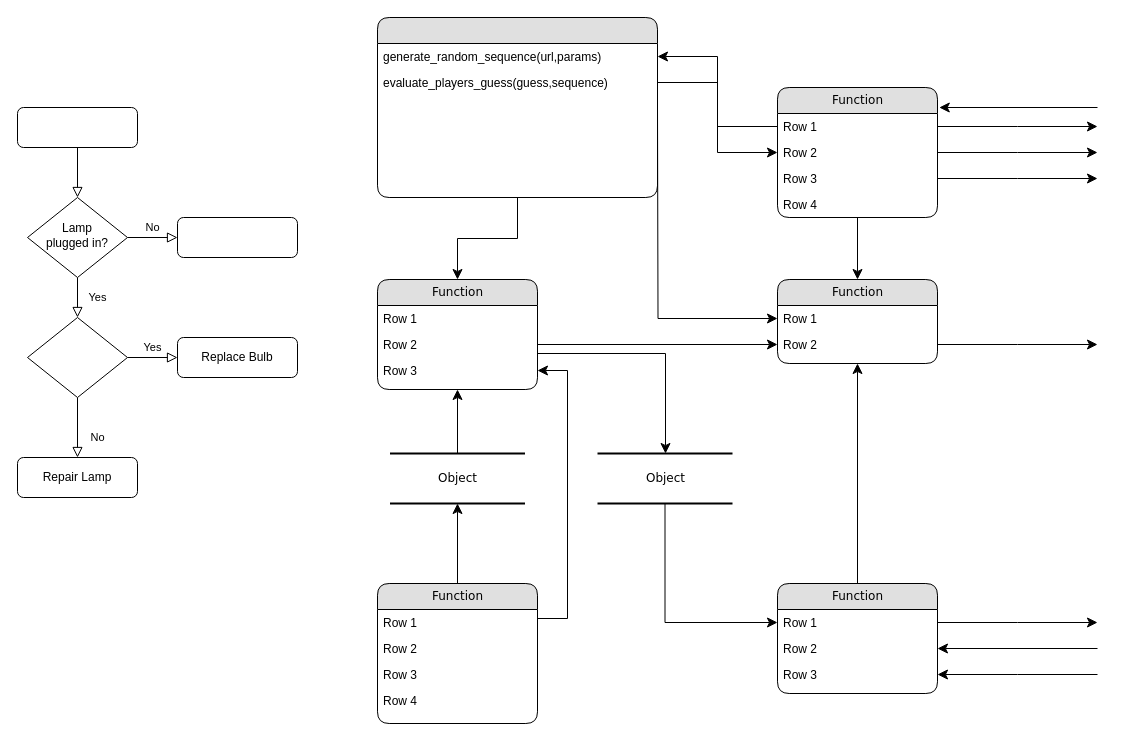
Some shapes in this 1125 by 741 pixel diagram are drawn without their labels. Here are the shapes that lost their labels. From the top down, the box of each, then its label:
(16, 106, 138, 148): Ask Player Name
(376, 16, 658, 198): Play_game
(176, 216, 298, 258): Plug in lamp
(26, 316, 128, 398): Bulb burned out?
